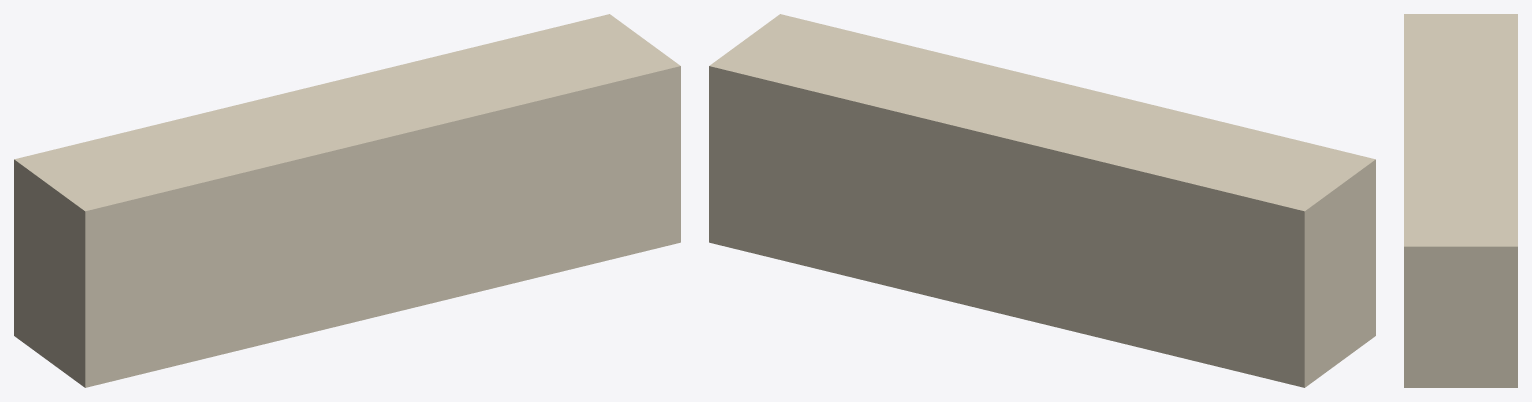
3 views of the same model, side by side, from view 1: azimuth 30°, elevation 25°; view 2: azimuth 150°, elevation 25°; view 3: azimuth 270°, elevation 25° (orthographic). The views are drawn at different scales.
Visible parts, largest first — view 1: B-GF-WINDOW-004-HEAD; view 2: B-GF-WINDOW-004-HEAD; view 3: B-GF-WINDOW-004-HEAD.
Boxes of the visible parts, box(x1,y1,x2,y2) form: B-GF-WINDOW-004-HEAD: box(14, 14, 680, 387); B-GF-WINDOW-004-HEAD: box(709, 14, 1375, 387); B-GF-WINDOW-004-HEAD: box(1404, 14, 1517, 387).
Size of the model in its own units: 0.6 by 0.17 by 0.124.
